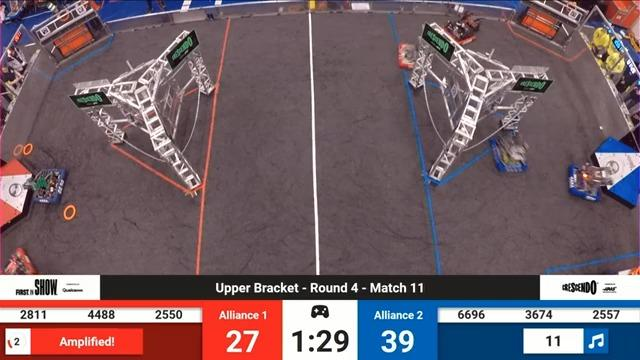robot: (484, 131, 539, 181), (567, 159, 617, 208), (438, 8, 491, 54), (20, 166, 67, 206), (392, 32, 433, 77), (1, 243, 35, 275)
